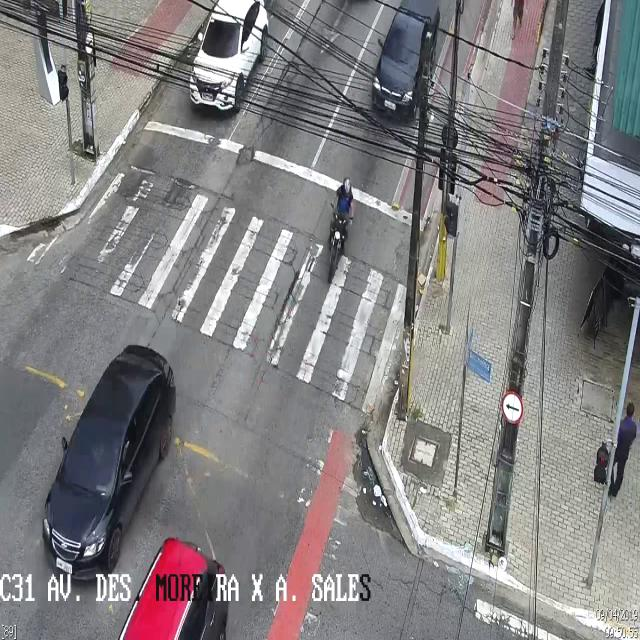Car: (35, 347, 171, 572), (110, 541, 228, 639), (366, 0, 450, 127), (188, 2, 270, 114), (610, 400, 634, 495)
Motorcycle: (328, 181, 352, 287)
